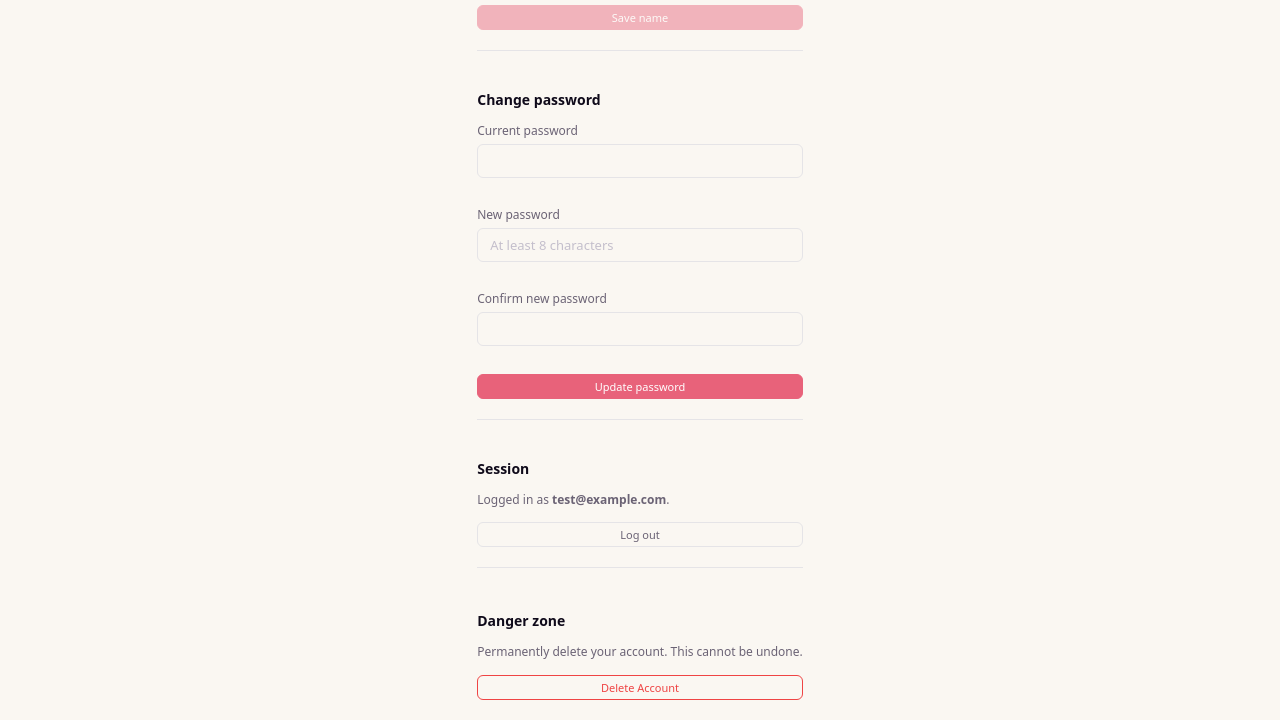
Test: AccountView — account deletion › disables the Delete Account button while deletion is in progress
The image size is (1280, 720).
(page scrolled)
What coordinates should you click on to do the following:
click the button "Delete Account"
I would click on:
 (640, 687)
Its box is x1=477 y1=675 x2=803 y2=700.
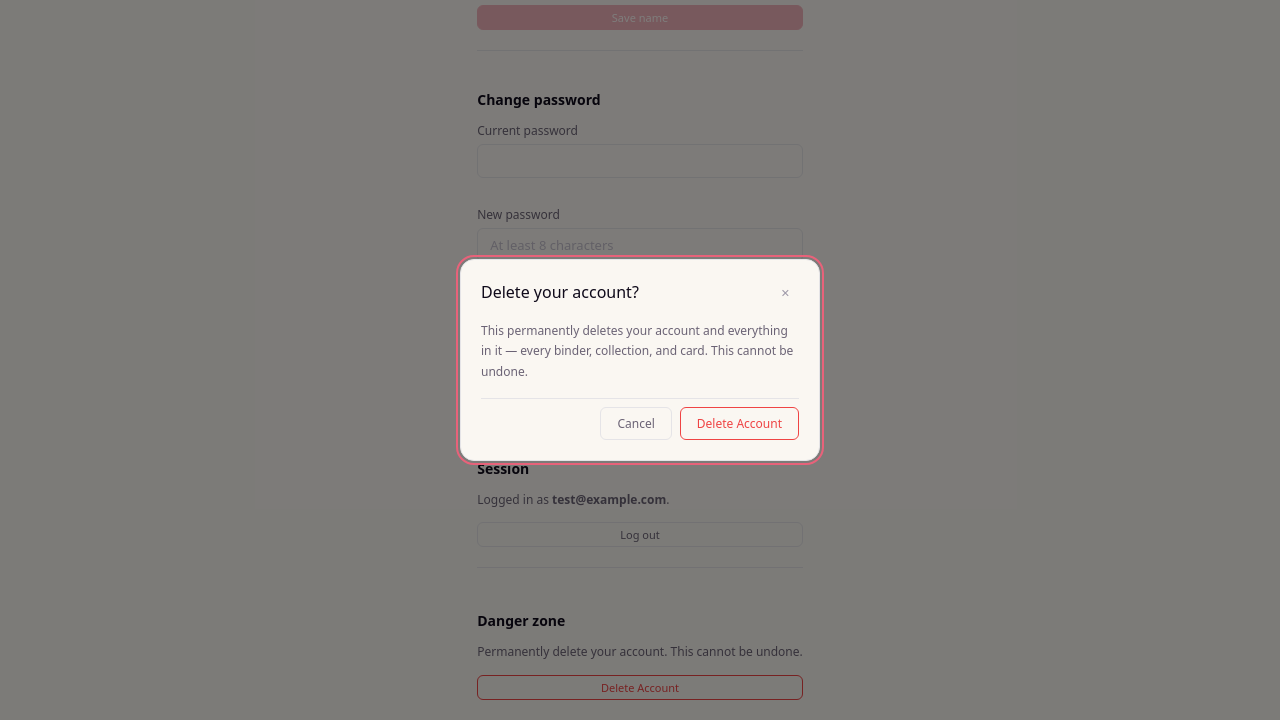
What coordinates should you click on to do the following:
click the button "Delete Account"
I would click on:
 (739, 424)
Its box is x1=680 y1=407 x2=799 y2=440.
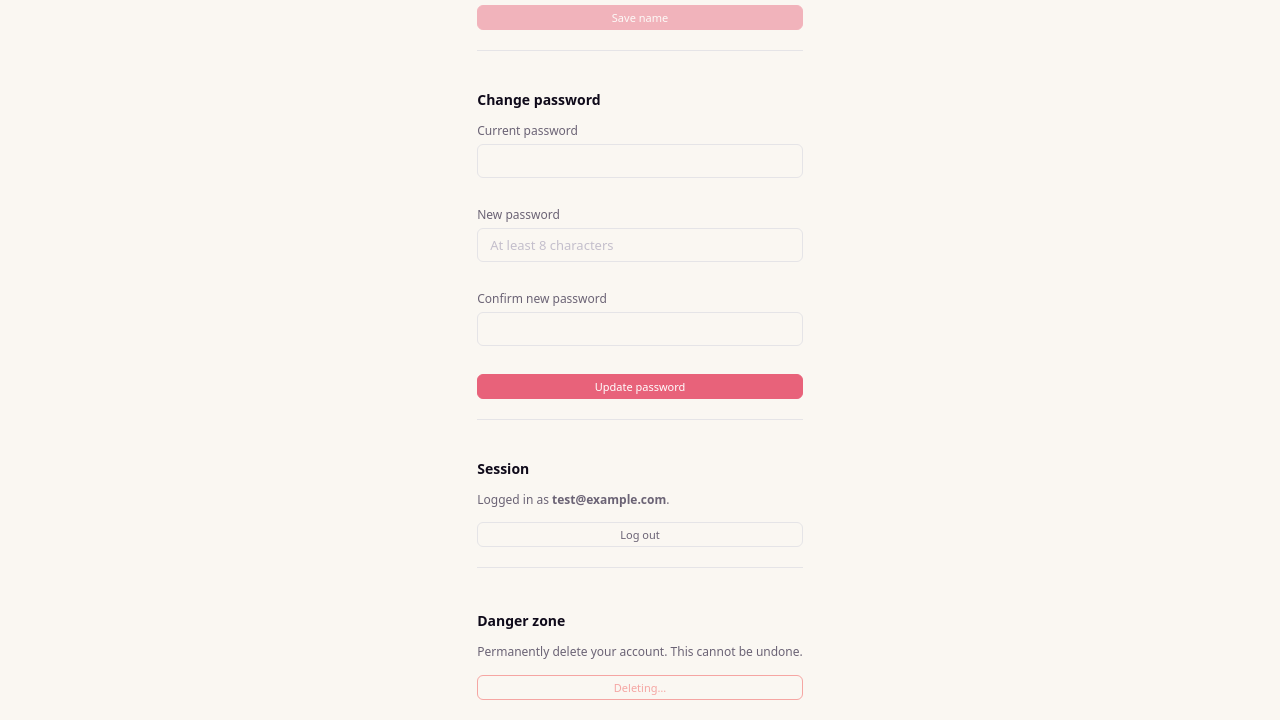
Now the button "Deleting…" is disabled, box x1=477 y1=675 x2=803 y2=700
